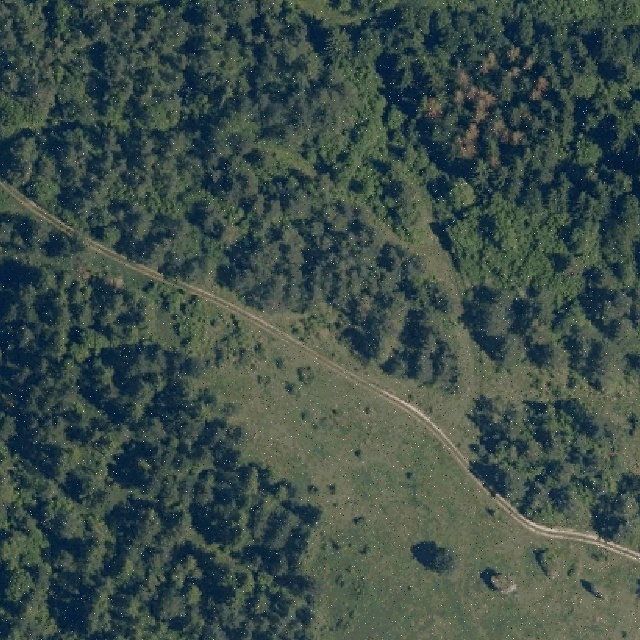vegetation: (0, 213, 323, 640)
